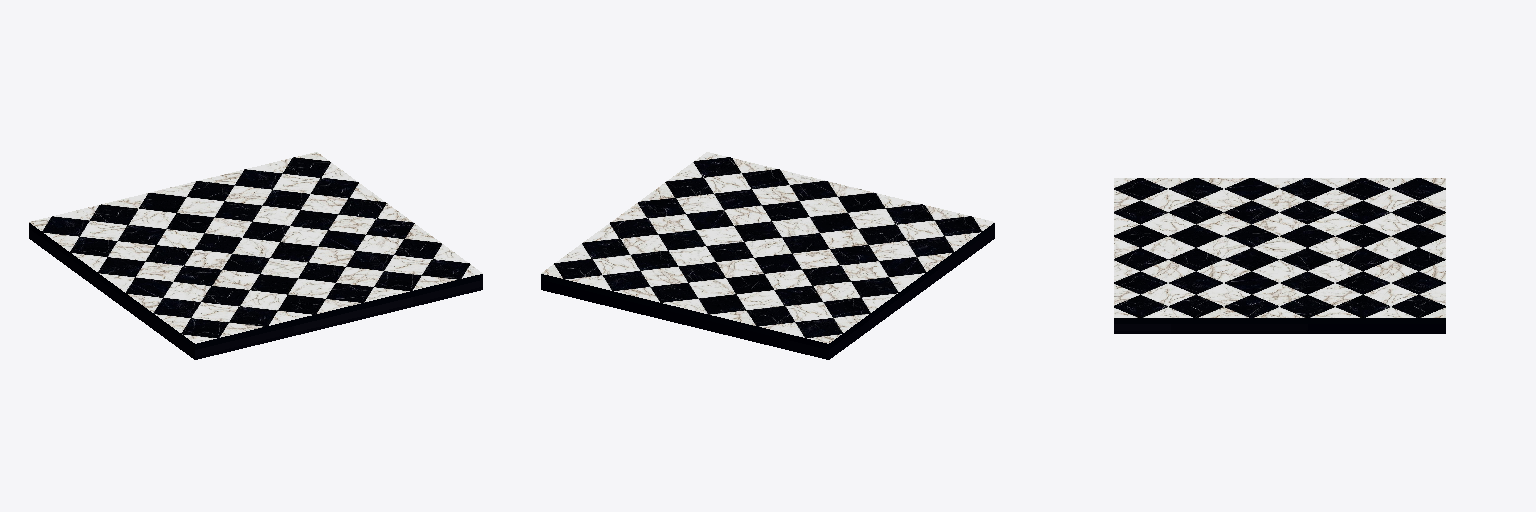
3 views of the same model, side by side, from view 1: azimuth 30°, elevation 25°; view 2: azimuth 150°, elevation 25°; view 3: azimuth 270°, elevation 25° (orthographic).
Visible parts, largest first — view 1: Cube; view 2: Cube; view 3: Cube.
Boxes of the visible parts, box(x1,y1,x2,y2) form: Cube: box(29, 152, 482, 359); Cube: box(541, 152, 994, 359); Cube: box(1114, 178, 1445, 333).
Bounding box in the file's own units: 12.32 × 0.6667 × 12.32.
1 materials, 1 textured.